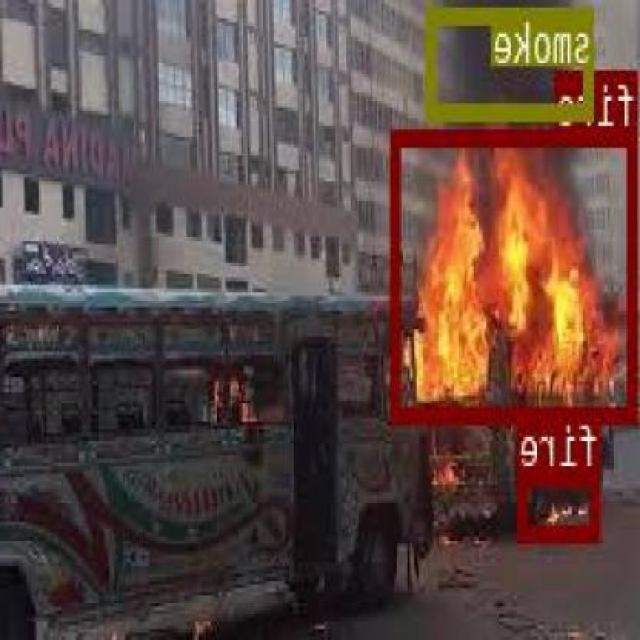Fire: (394, 129, 638, 422), (522, 467, 602, 538)
Smoke: (428, 5, 597, 116)
